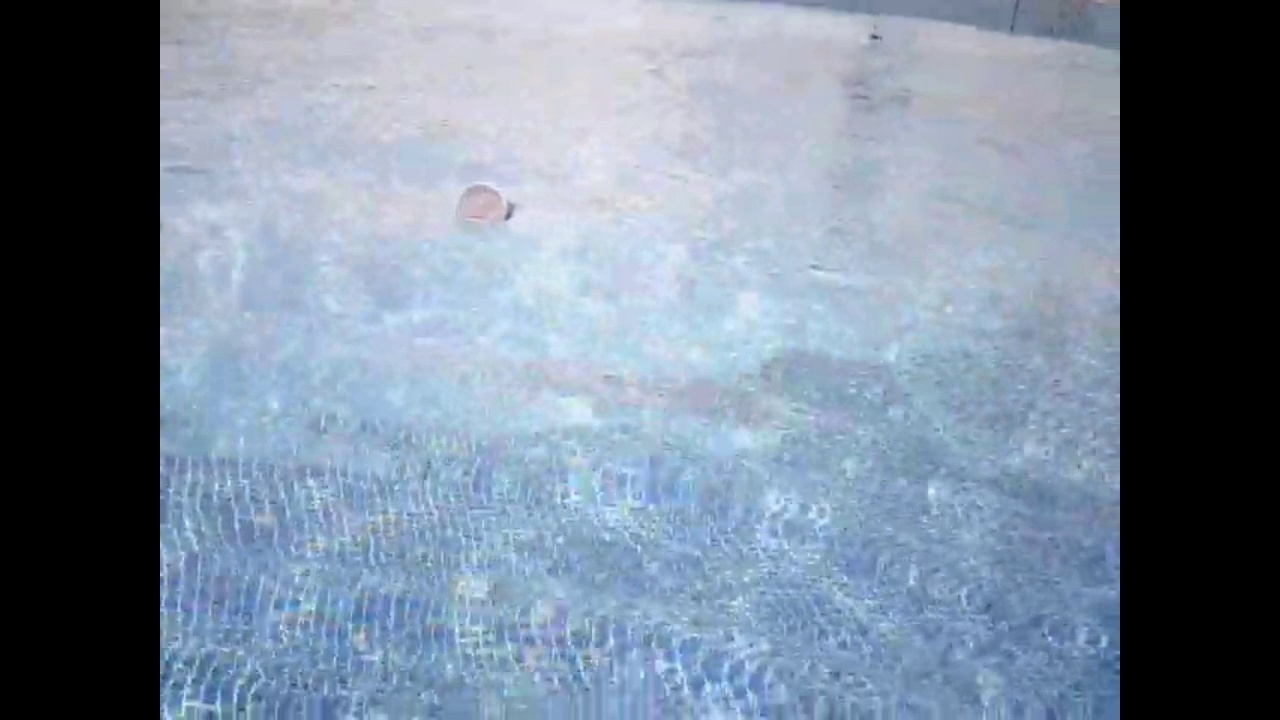debris: (457, 180, 529, 242), (865, 30, 883, 45)
